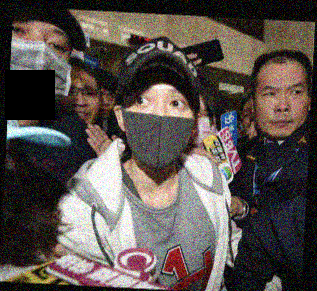with_mask: (121, 80, 194, 169), (10, 22, 72, 111), (190, 106, 221, 152)
without_mask: (253, 78, 309, 138), (59, 81, 102, 129), (95, 89, 114, 120)
